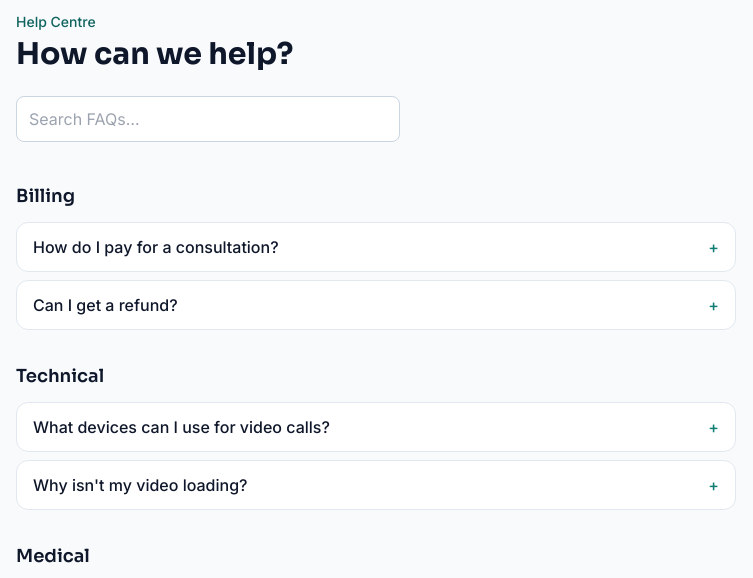
HelpCentre › expands an answer on click
Click the text "How do I pay for a consultation?": (156, 247) [33, 235, 279, 259]
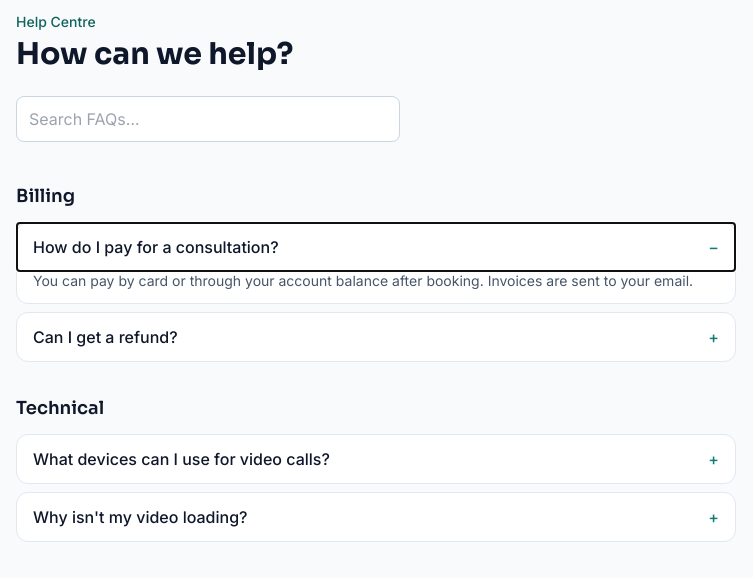
Check: the text "invoices are sent to your email" is shown, box [33, 272, 693, 289]
